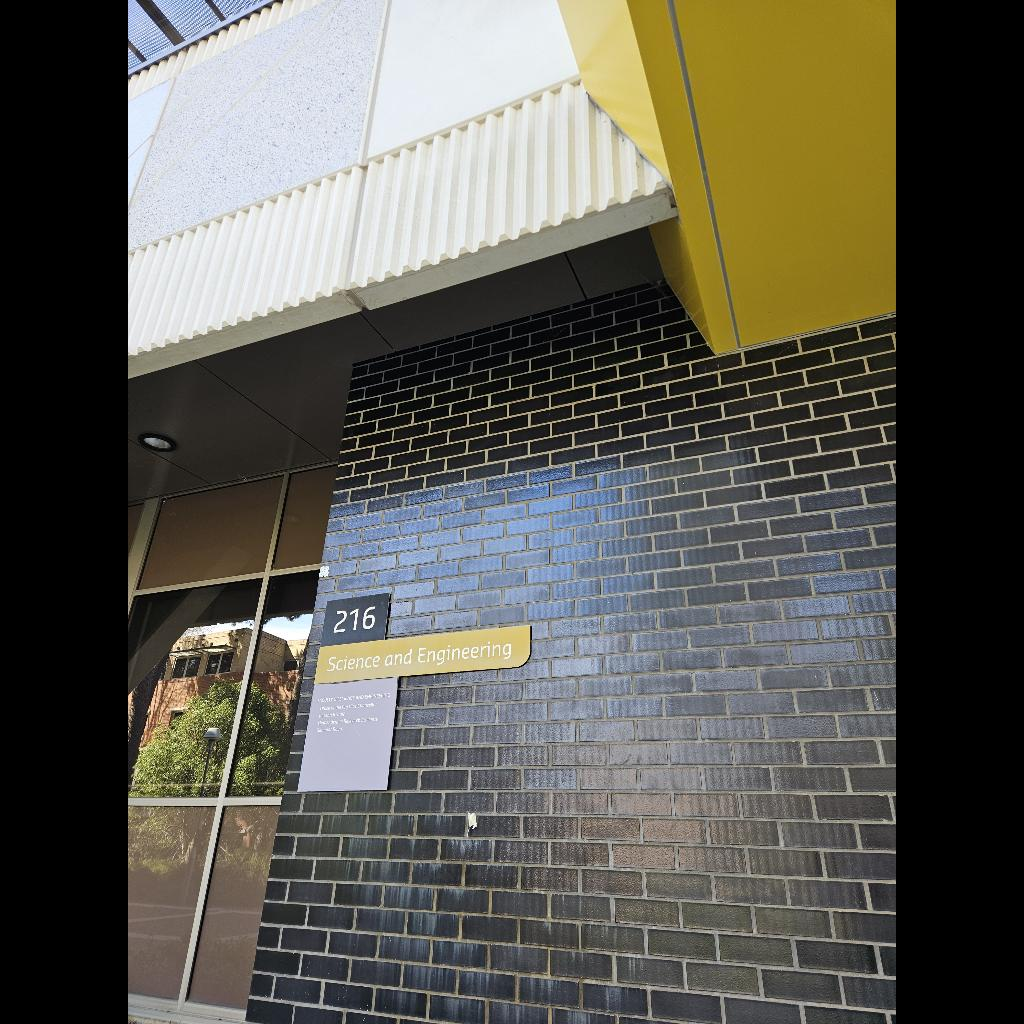BuildingCodes: (334, 606, 376, 634)
